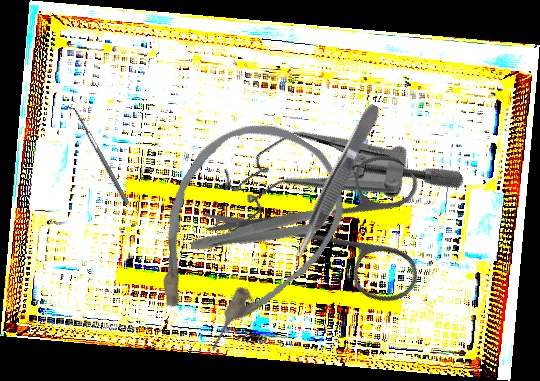Cannula: (114, 97, 368, 372)
Iris Scissors: (198, 91, 470, 364)
Spatula Surgical: (65, 102, 130, 207)
Speculum: (191, 65, 467, 307)
Tissue Forceps: (286, 101, 387, 263), (188, 203, 346, 262)
